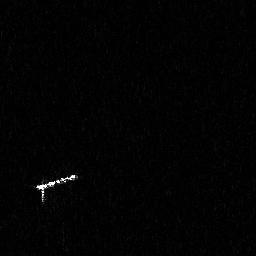ship: (33, 168, 79, 207)
